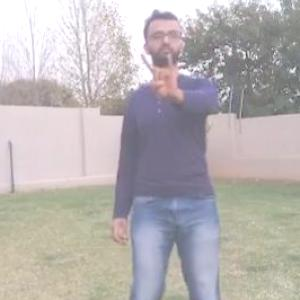takeoff-hand: (140, 46, 189, 106)
